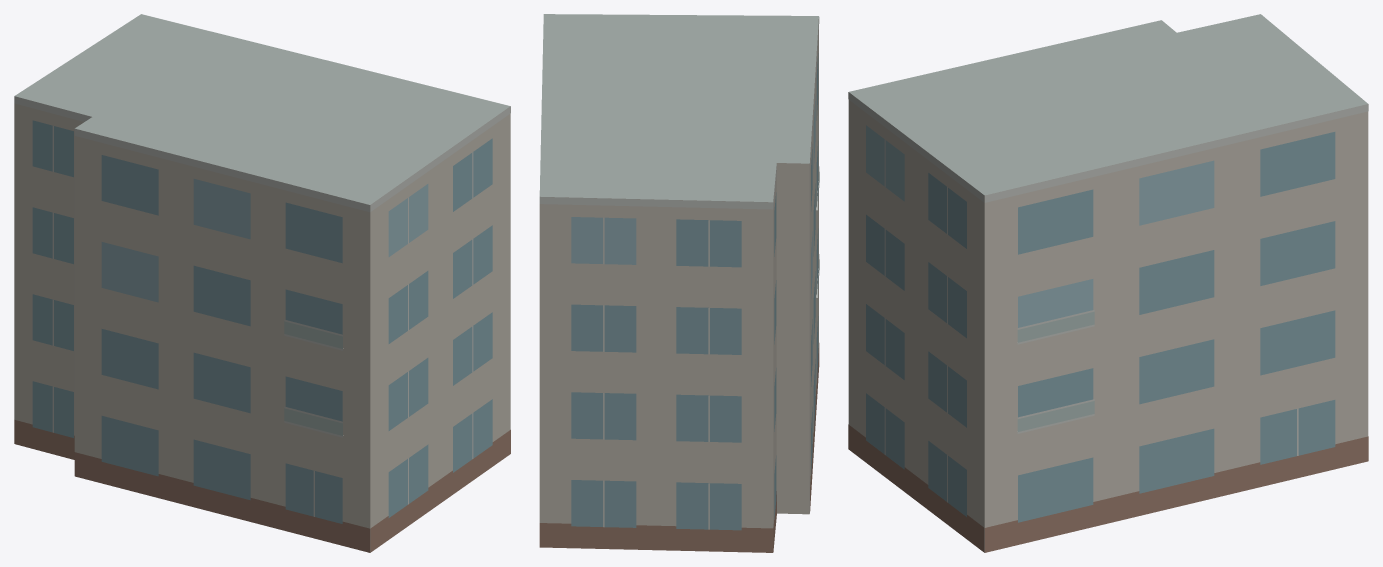
Rendered from survey-upis-32900214.glb.
The picture shows the model from 3 angles, left to right: view 1: azimuth 30°, elevation 25°; view 2: azimuth 150°, elevation 25°; view 3: azimuth 270°, elevation 25°; orthographic projection. The views are drawn at different scales.
Parts seen in each view (by area): view 1: survey-upis-32900214.tmp; view 2: survey-upis-32900214.tmp; view 3: survey-upis-32900214.tmp.
Part boxes in pixels (<box>): survey-upis-32900214.tmp: <box>14,14,510,552</box>; survey-upis-32900214.tmp: <box>539,14,819,552</box>; survey-upis-32900214.tmp: <box>848,14,1368,552</box>.
Bounding box in the file's own units: 12.79 × 11.73 × 15.48.
